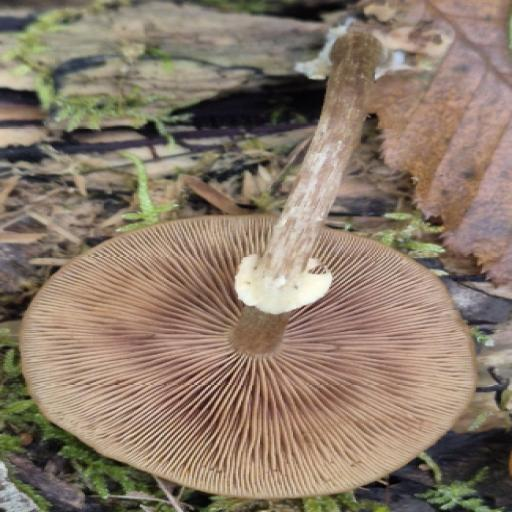mushroom: (19, 208, 476, 496)
